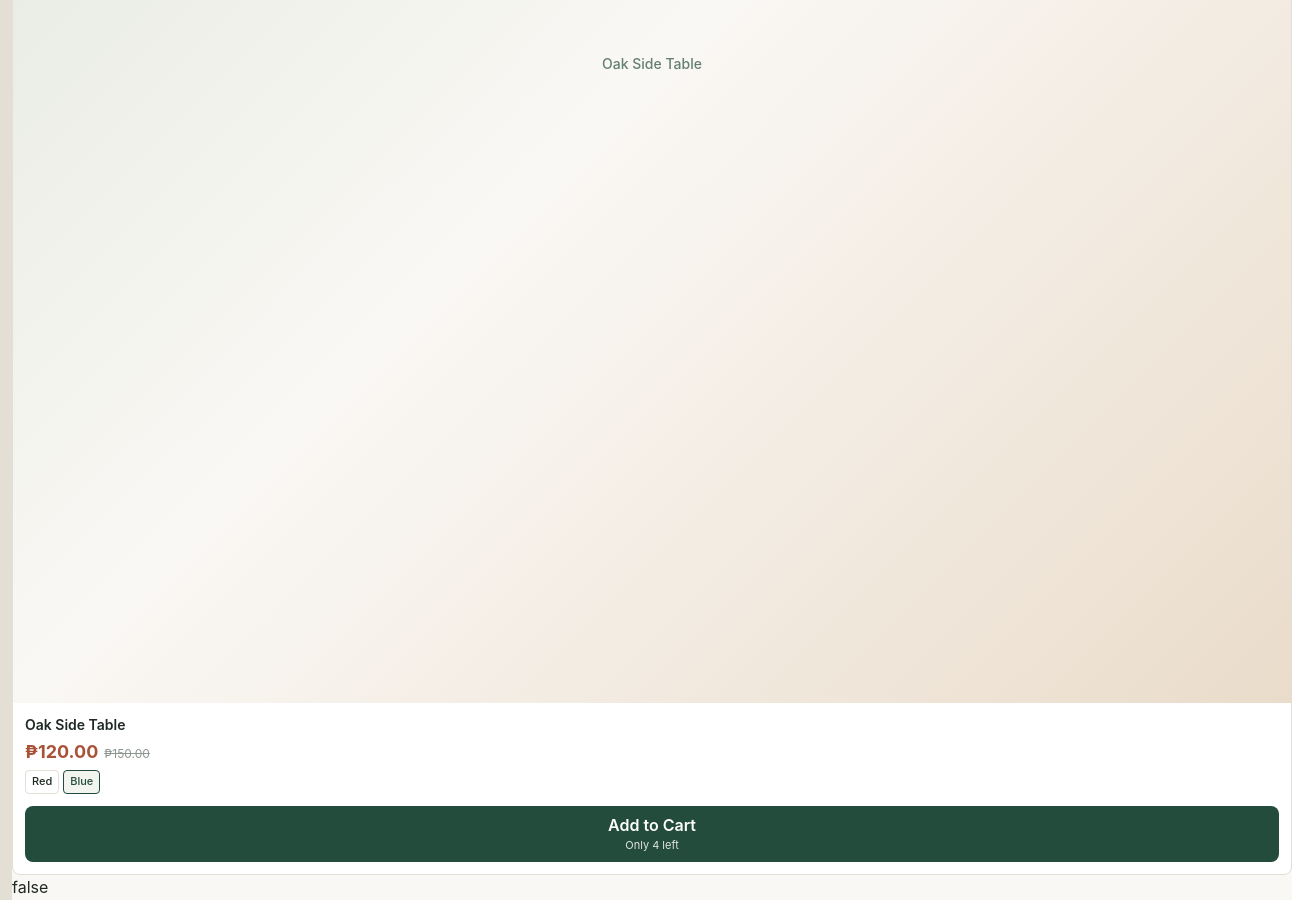
ProductCard inline purchase › does not let an earlier success timer erase a later failure
(page scrolled)
Step 1. Click the button "Add to Cart Only 4 left" → (652, 834), box [25,806,1279,862]
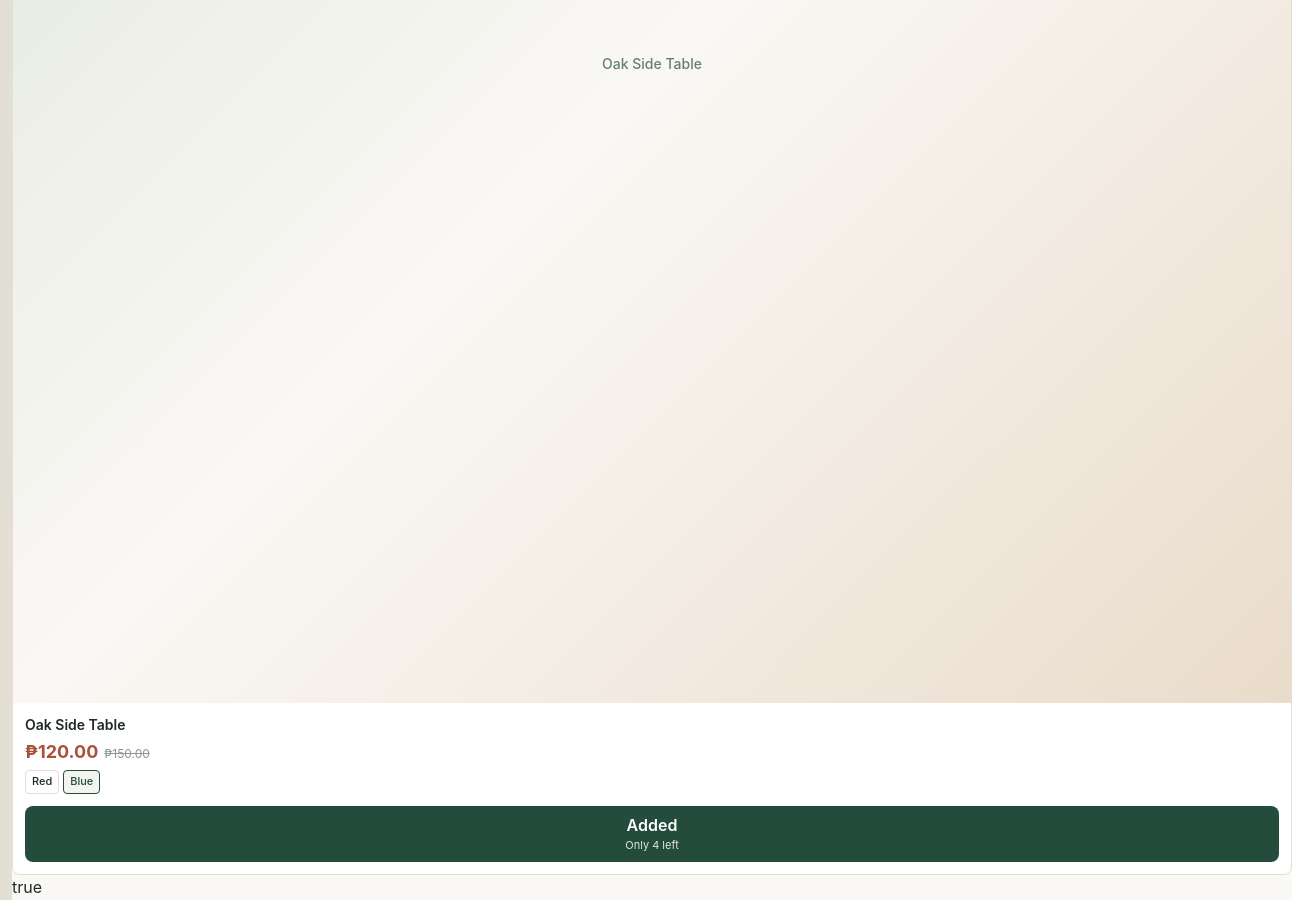
Step 2. Click the button "Added Only 4 left" → (652, 834), box [25,806,1279,862]
Wait 3000 ms
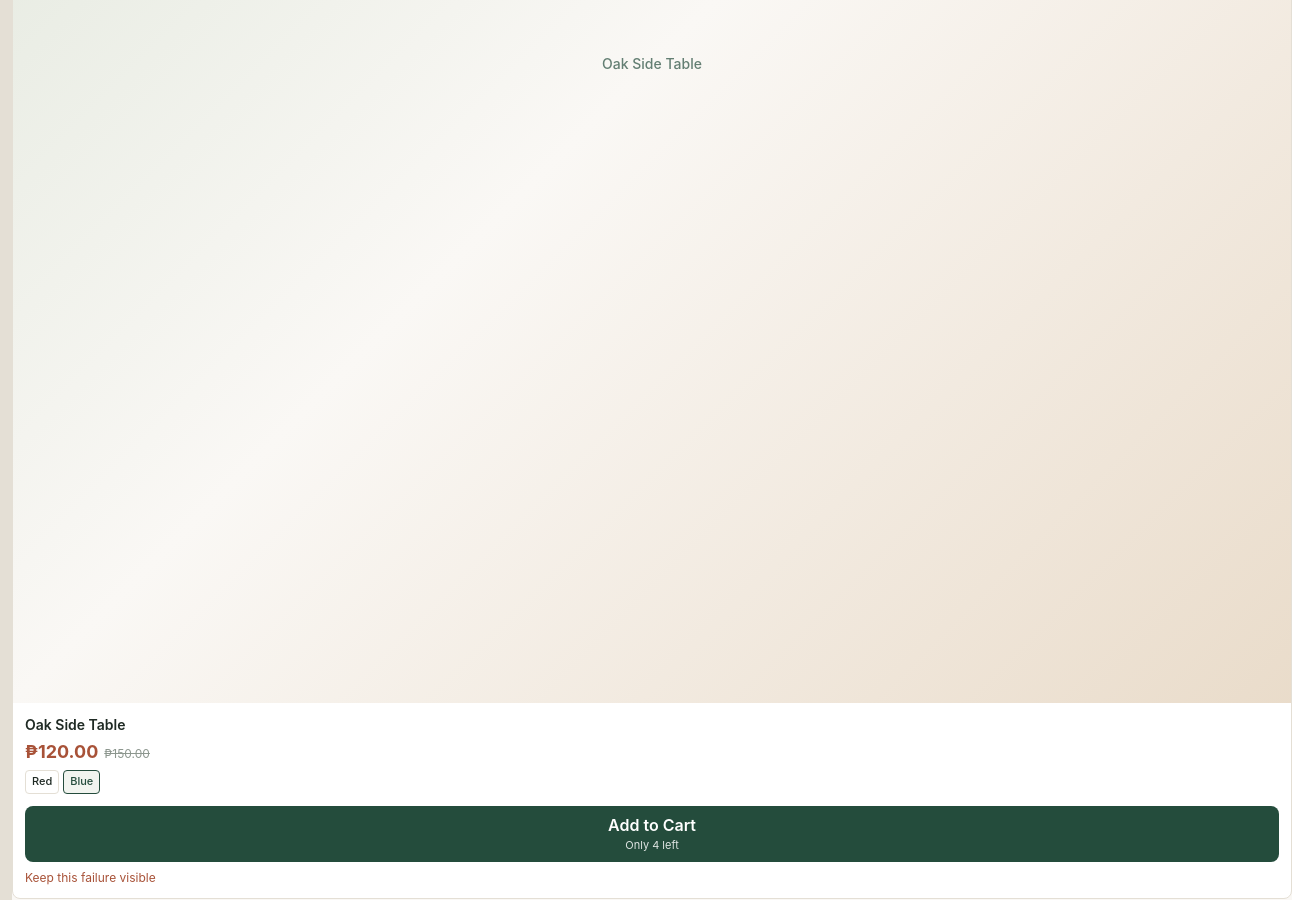
Expected: the message reads "Keep this failure visible", [25,870,156,884]
